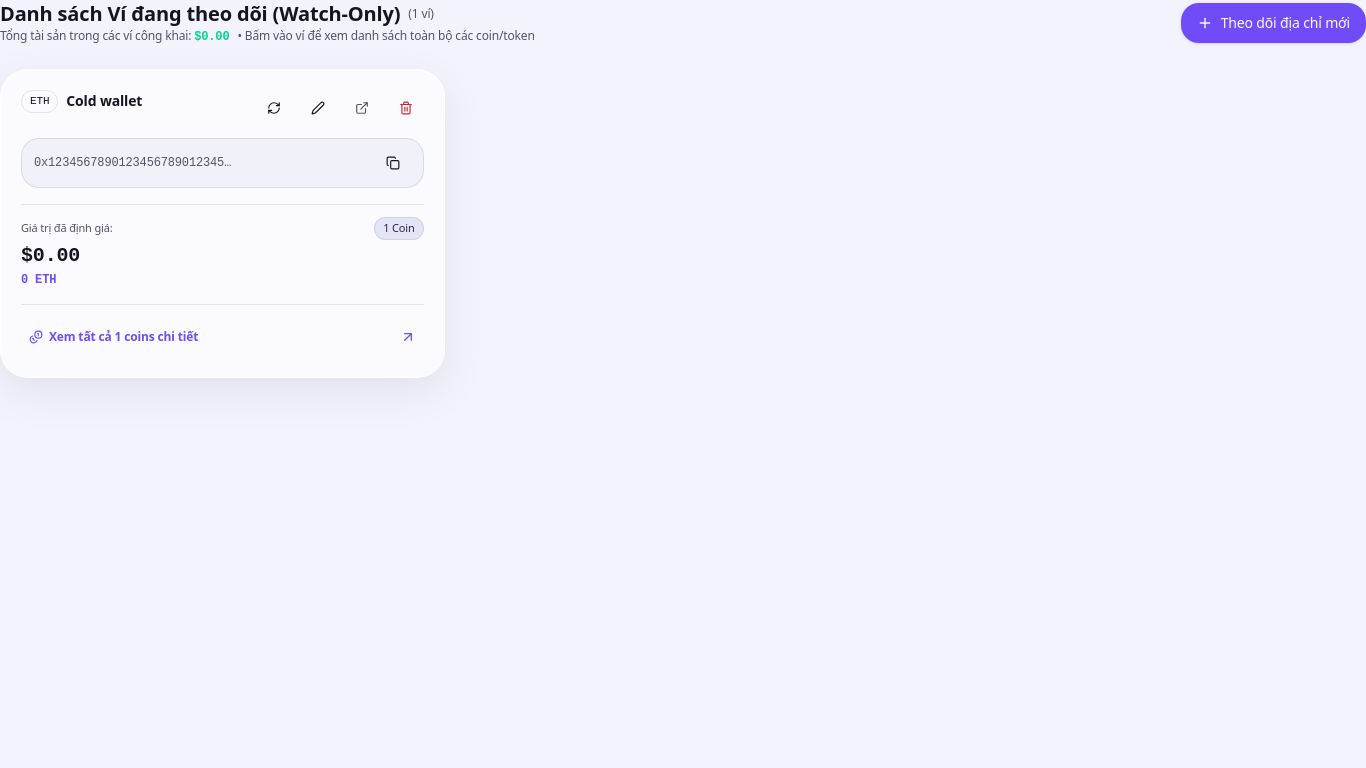
Scenario: ViewOnlyWallets › opens the edit-label form in an accessible shadcn dialog
The width and height of the screenshot is (1366, 768).
Click the button titled "Đổi tên nhãn ví": click(318, 108) left=300, top=90, right=336, bottom=126
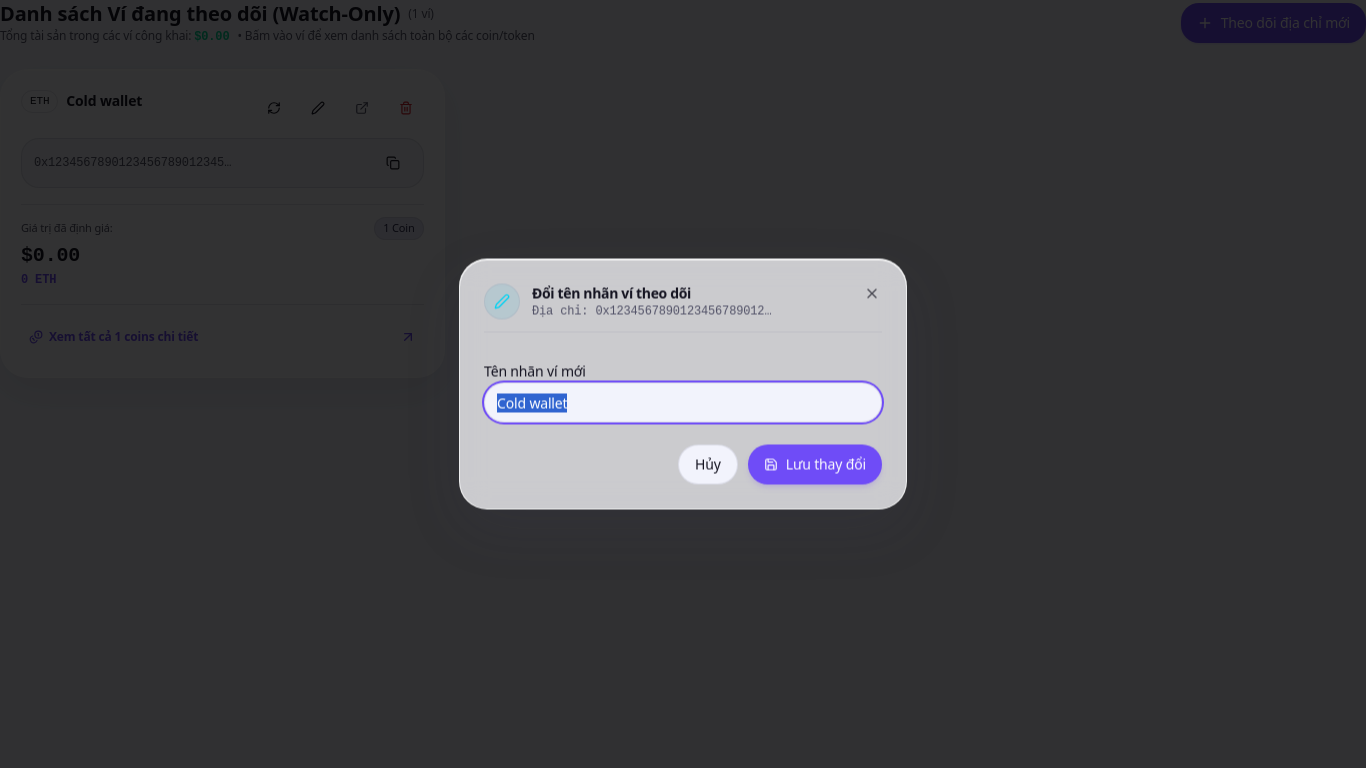
Expected: the dialog "Đổi tên nhãn ví theo dõi" is shown, left=459, top=258, right=907, bottom=510
